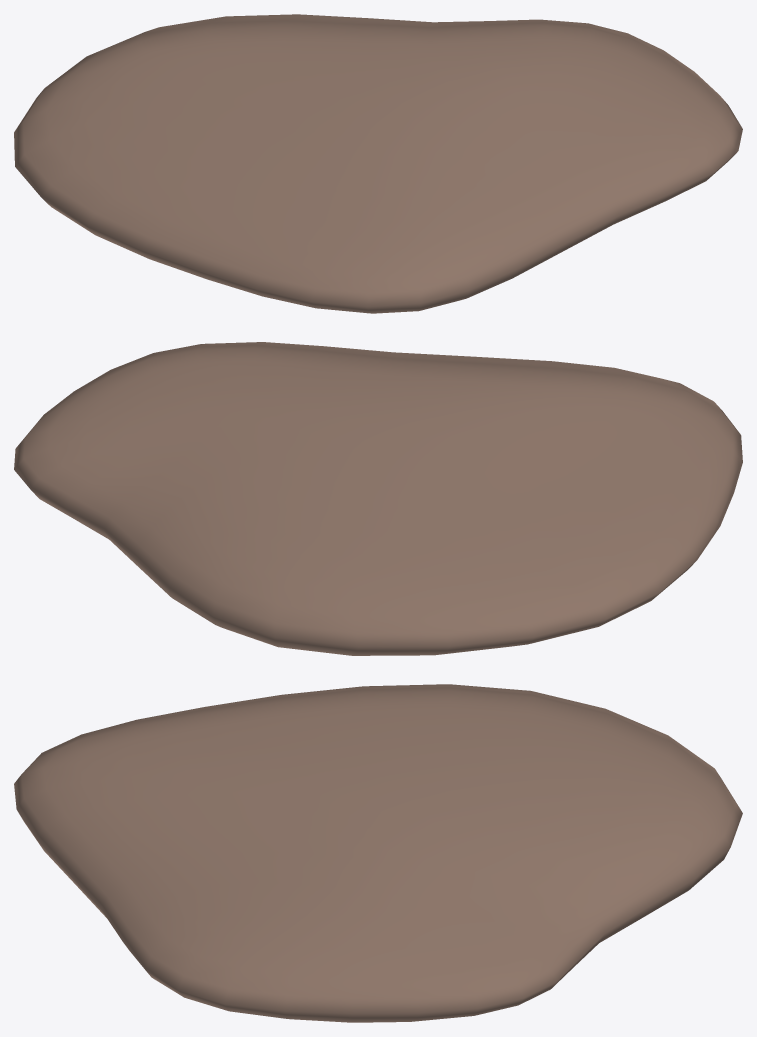
Rendered from mud.fbx.
3 renders of one model, top to bottom at view 1: azimuth 30°, elevation 25°; view 2: azimuth 150°, elevation 25°; view 3: azimuth 270°, elevation 25°, orthographic. The views are drawn at different scales.
Parts seen in each view (by area): view 1: pCube32; view 2: pCube32; view 3: pCube32.
Part boxes in pixels (x1,y1,x2,y2): pCube32: (14,14,742,313); pCube32: (14,342,742,655); pCube32: (14,684,742,1022).
Bounding box in the file's own units: 5.5 × 0.9405 × 5.25.
